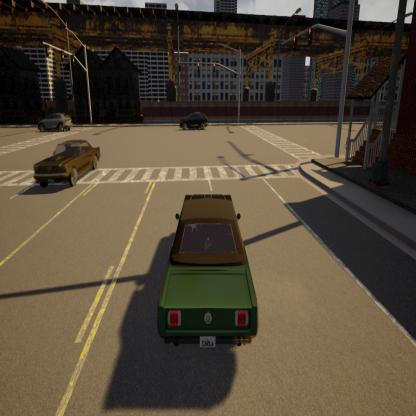Cars: (152, 186, 268, 376), (31, 136, 104, 192), (35, 107, 74, 134), (172, 107, 210, 132)
